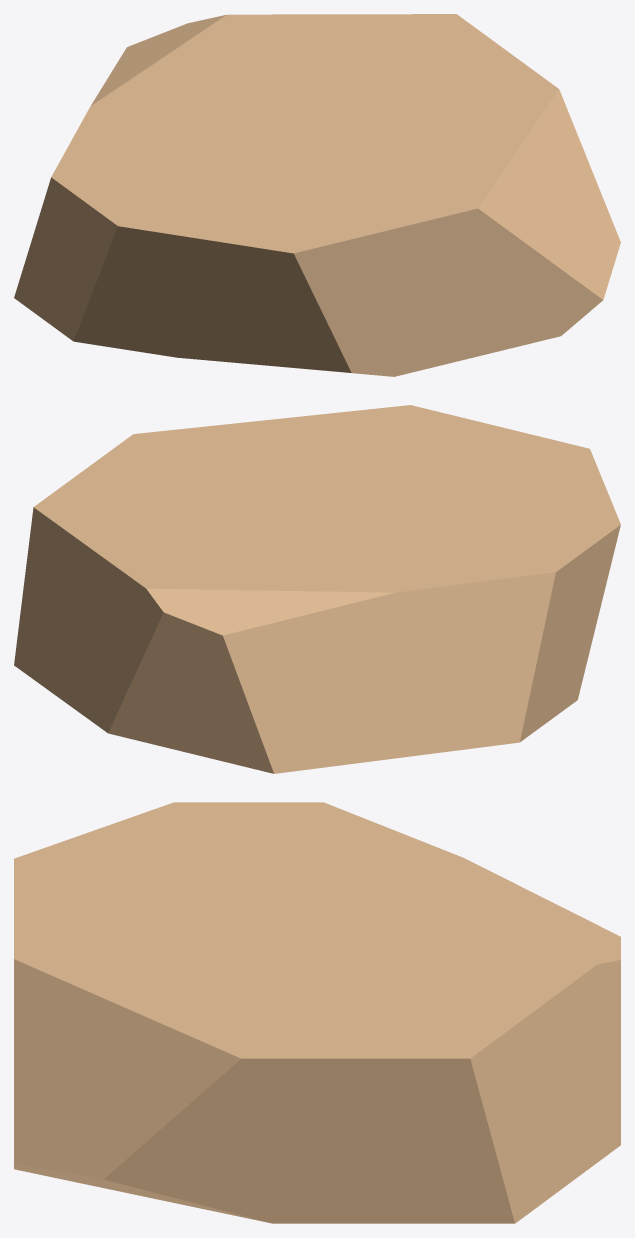
Rendered from Rock_Flat_m_09.fbx.
3 renders of one model, top to bottom at view 1: azimuth 30°, elevation 25°; view 2: azimuth 150°, elevation 25°; view 3: azimuth 270°, elevation 25°, orthographic. The views are drawn at different scales.
Parts seen in each view (by area): view 1: Rock_Flat_m_09; view 2: Rock_Flat_m_09; view 3: Rock_Flat_m_09.
Boxes of the visible parts, <box> form: Rock_Flat_m_09: <box>14,14,620,376</box>; Rock_Flat_m_09: <box>14,405,620,773</box>; Rock_Flat_m_09: <box>14,802,620,1223</box>.
Size of the model in its own units: 100 by 30 by 100.
